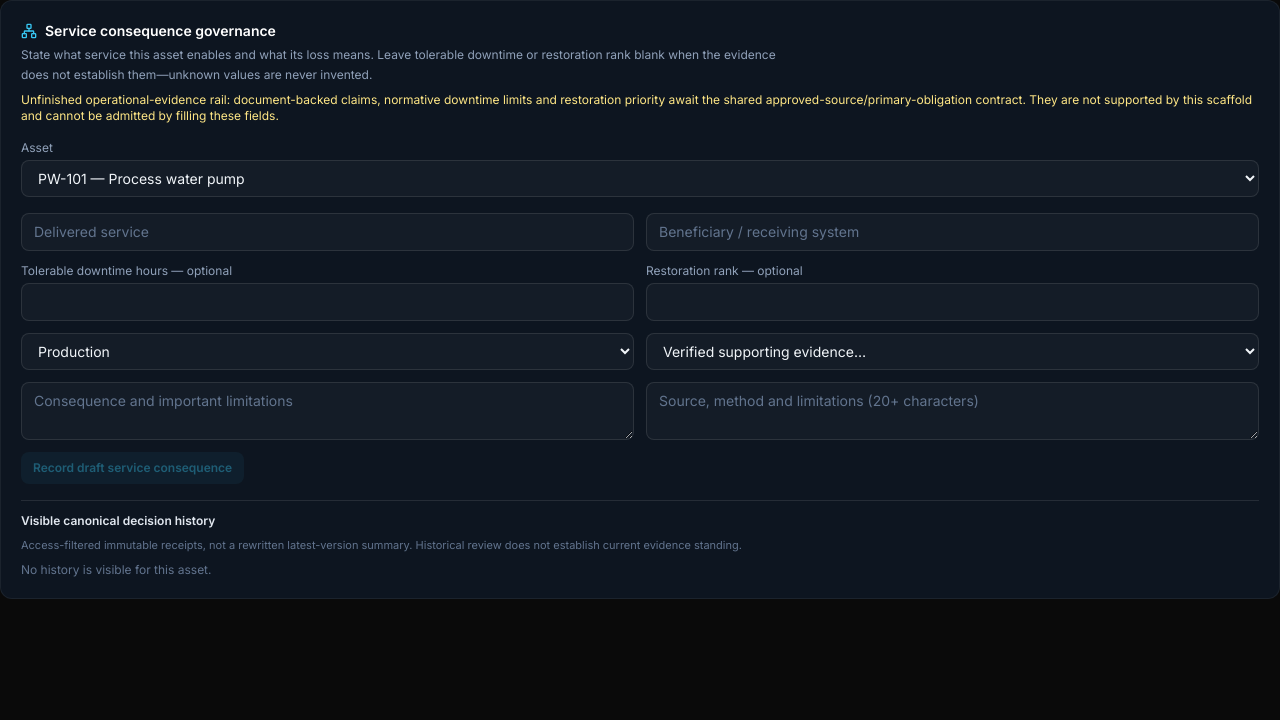
Test case: ServiceLevelGovernancePanel › records a draft while preserving unknown tolerance and restoration rank
The image size is (1280, 720).
In the field named "Service name": (328, 232) [21,213,634,251], type "Process water delivery"
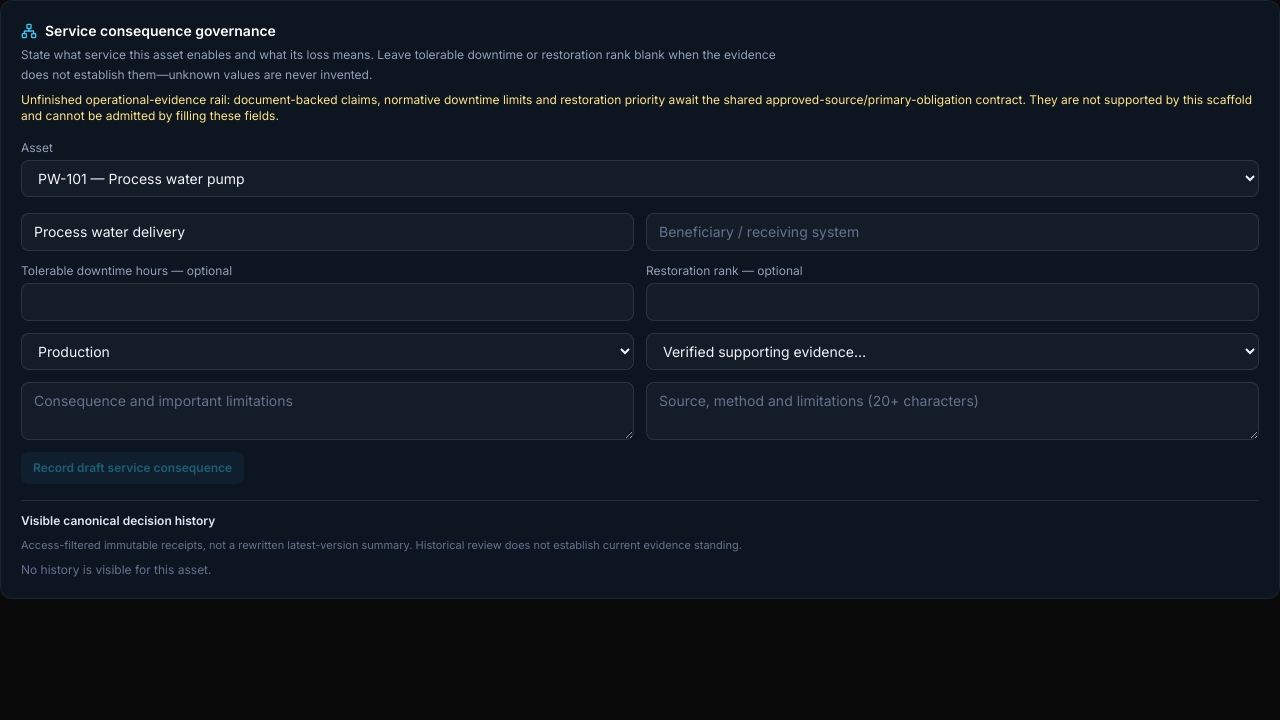
In the field labelled "Beneficiary": (952, 232) [646,213,1259,251], type "Operating plant"
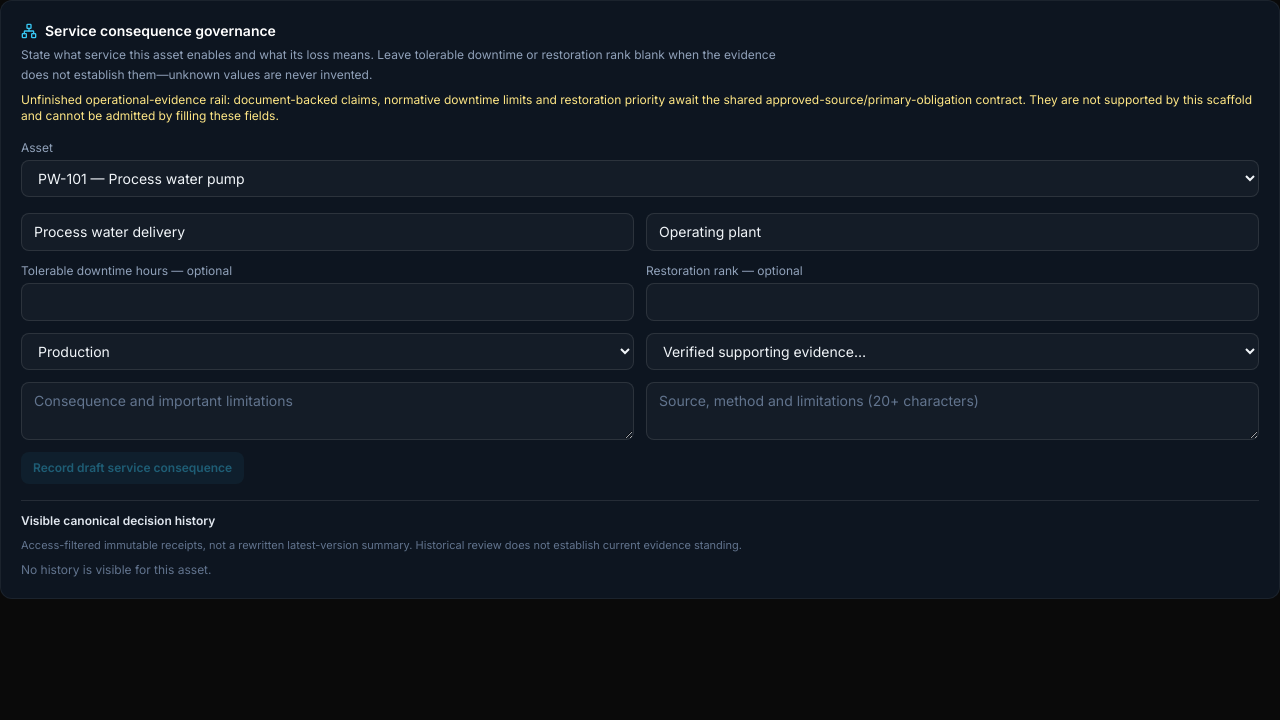
In the text box named "Consequence notes": (328, 411) [21,382,634,440], type "Loss stops wash-plant production; time tolerance remains unknown."
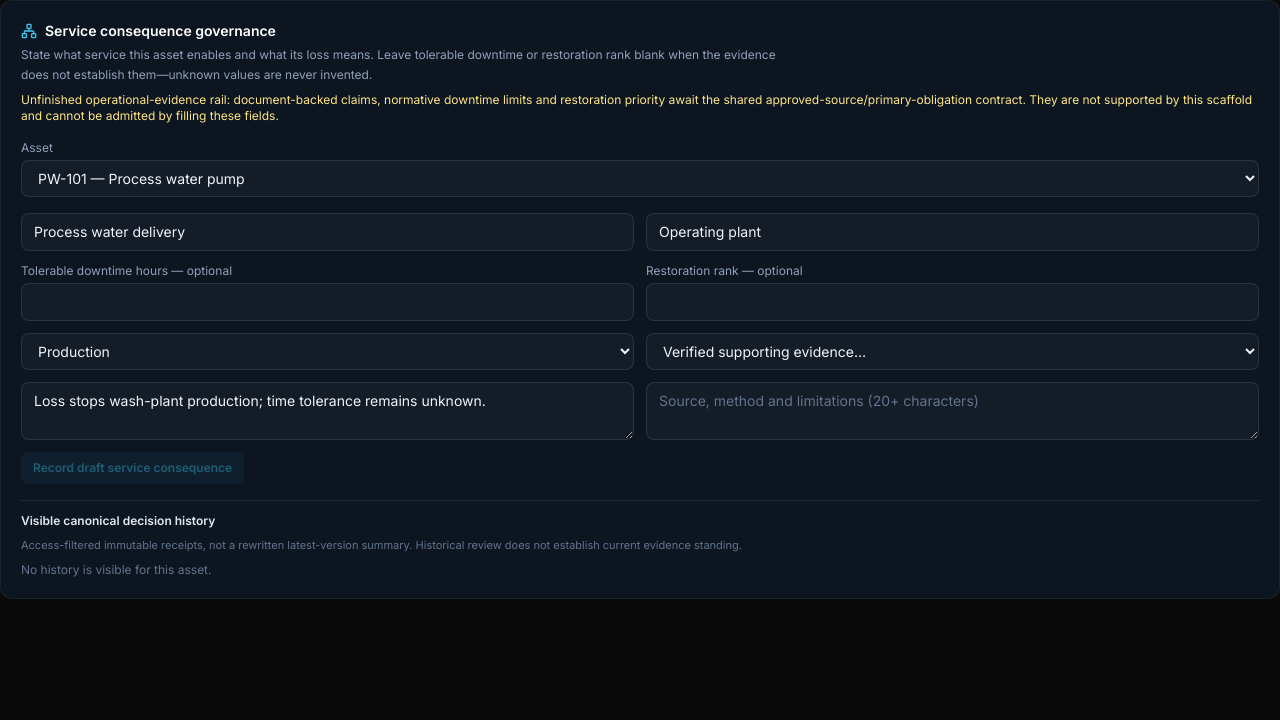
In the text box named "Evidence basis": (952, 411) [646,382,1259,440], type "Verified operating narrative; no approved tolerance is available."
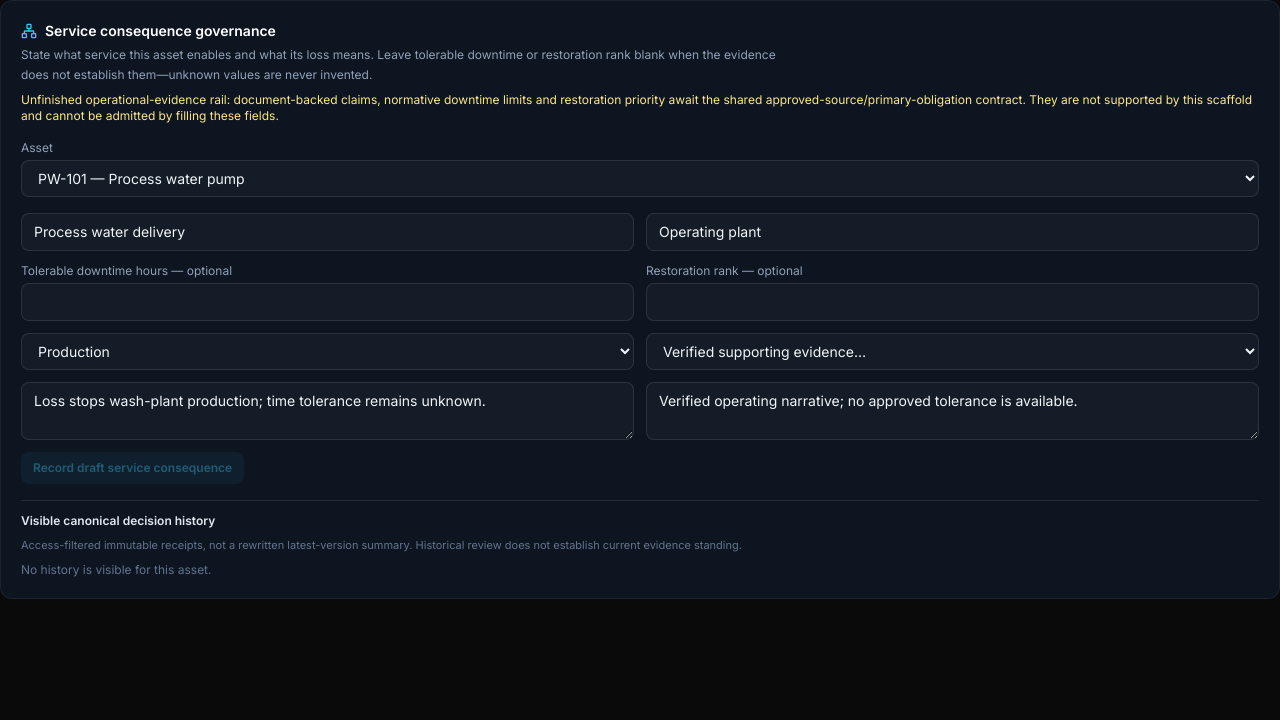
Select "Verified process service narrative" in the dropdown named "Verified evidence": (952, 352) [646,333,1259,370]
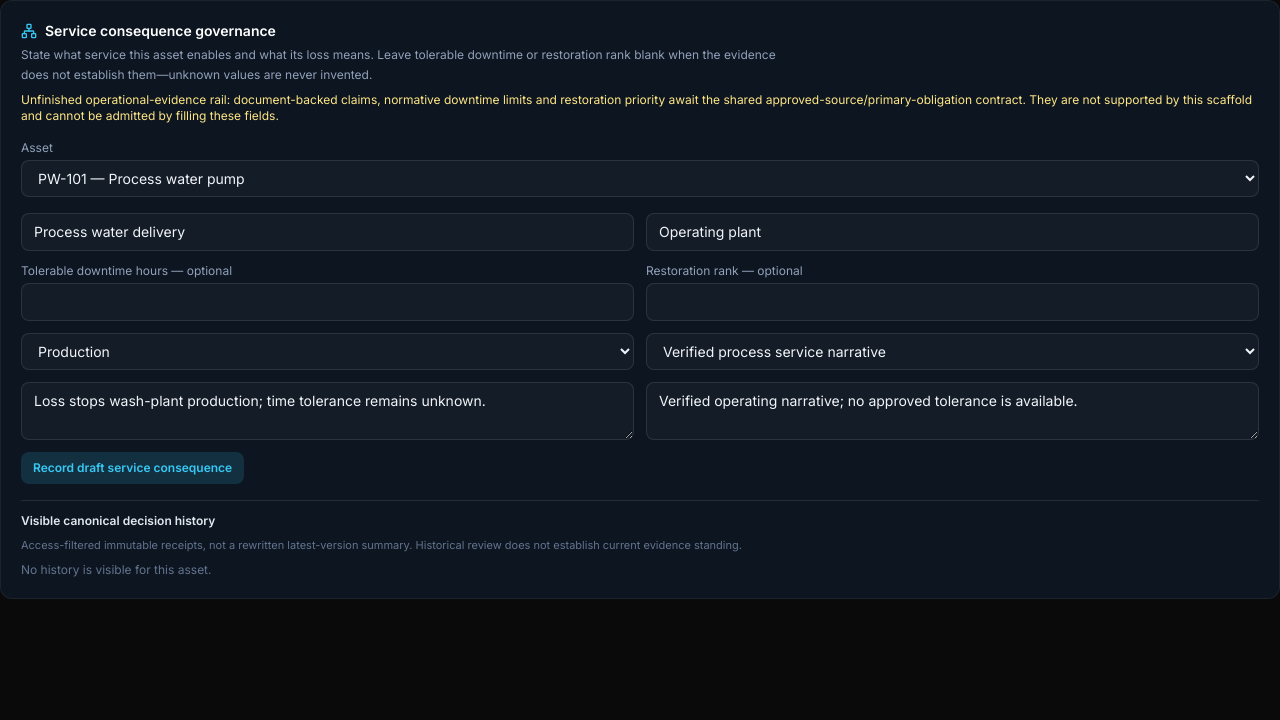
Click the button "Record draft service consequence": (133, 468) [21,452,244,484]
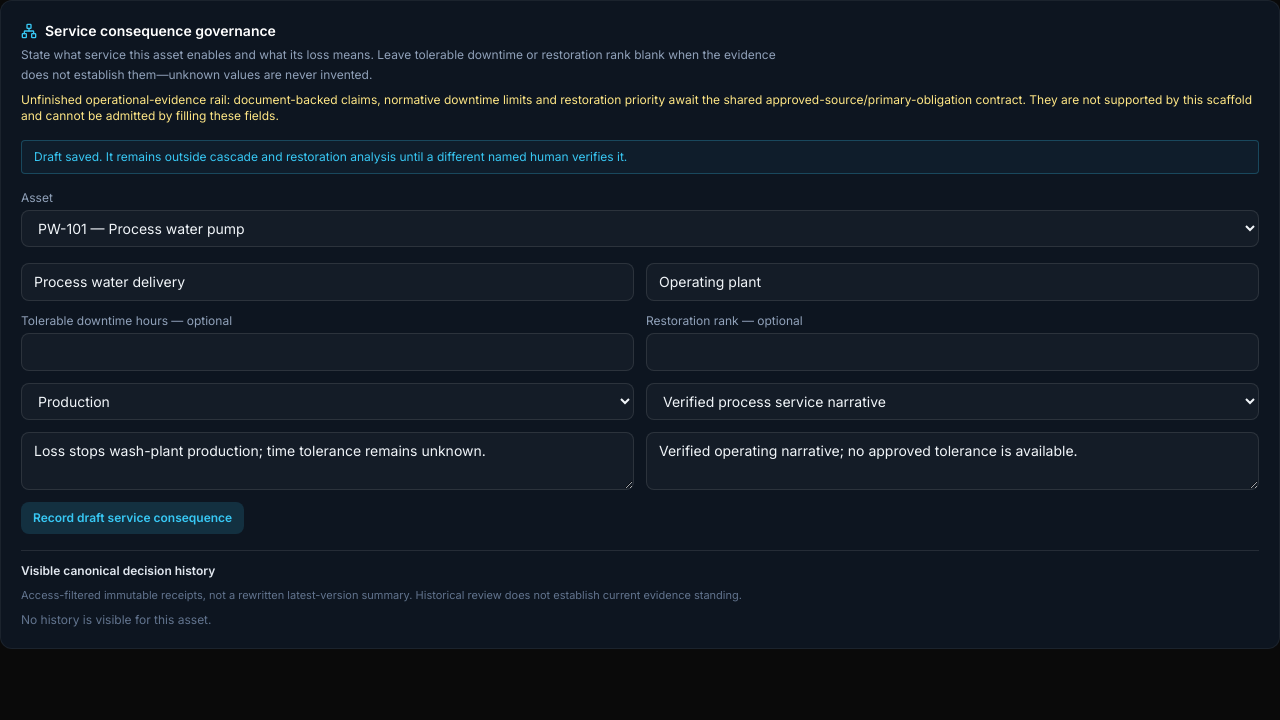
Check: the text "remains outside cascade and restoration analysis" is shown, box [34,149,627,164]
